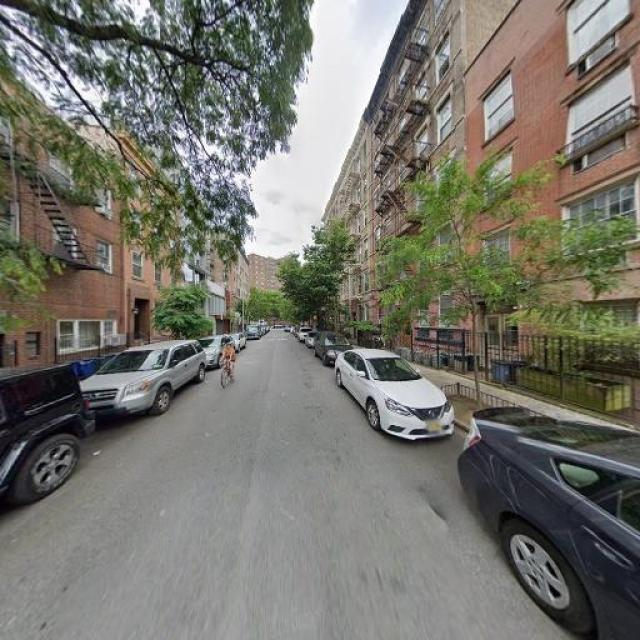Building: (457, 1, 640, 412), (1, 63, 122, 399), (375, 1, 454, 363), (127, 135, 178, 363), (345, 108, 372, 342), (328, 180, 342, 334)
